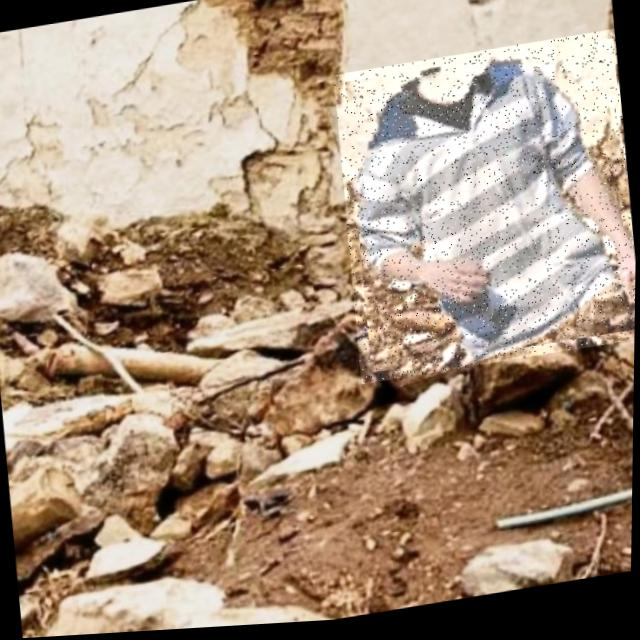Person in Rubble: (329, 34, 639, 389)
